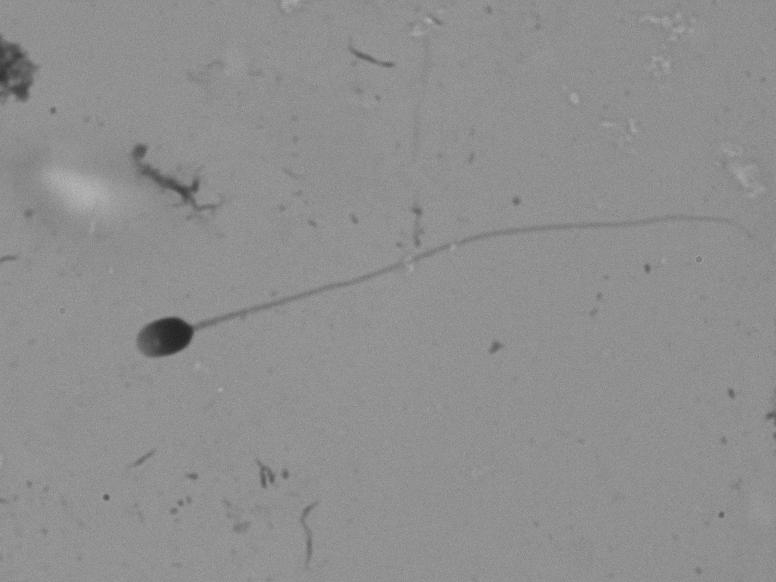Normal: (114, 201, 767, 393)
